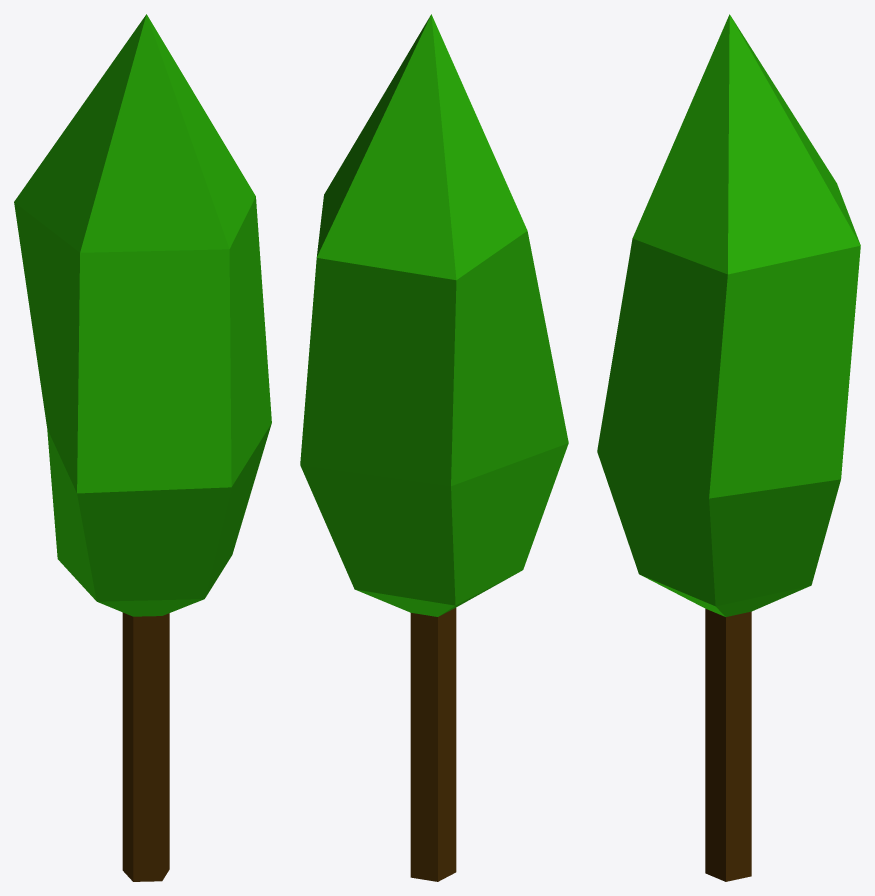
Rendered from Tree_6.fbx.
3 renders of one model, left to right at view 1: azimuth 30°, elevation 25°; view 2: azimuth 150°, elevation 25°; view 3: azimuth 270°, elevation 25°, orthographic.
Visible parts, largest first — view 1: Tree6; view 2: Tree6; view 3: Tree6.
Part boxes in pixels (x1,y1,x2,y2): Tree6: (14,14,271,881); Tree6: (300,14,568,881); Tree6: (597,14,860,881).
Bounding box in the file's own units: 94.09 × 353 × 98.45.
